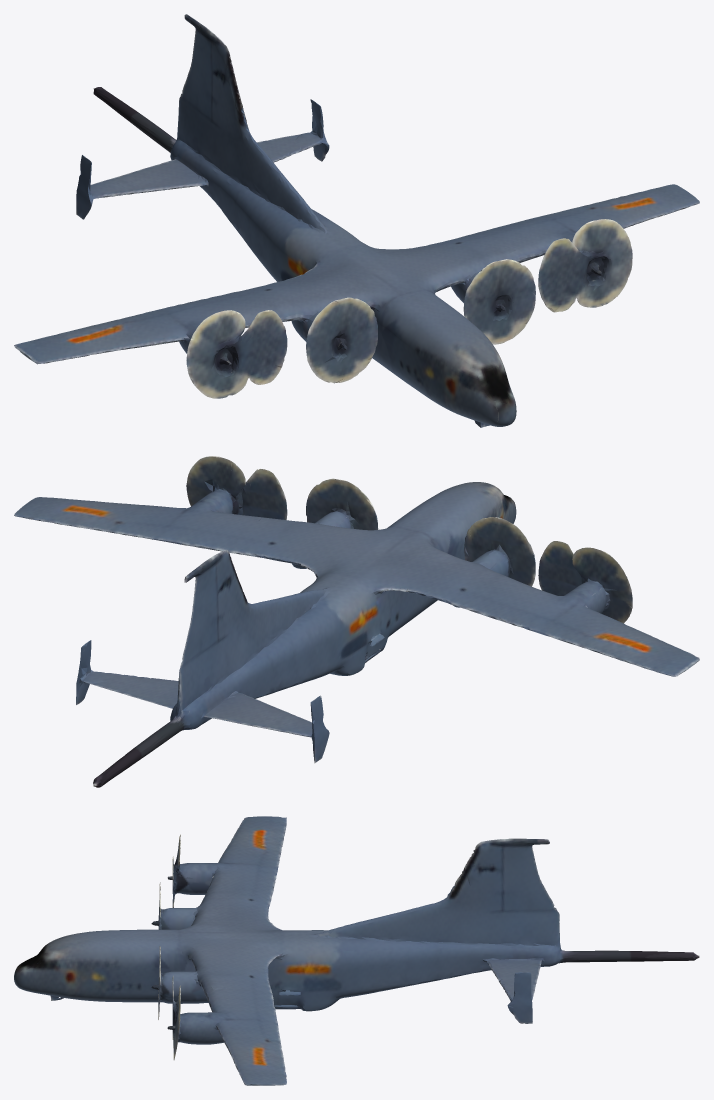
Rendered from Y-9_Medium_Transport_AI_Rodin_before_fix_x90_z90.glb.
3 renders of one model, top to bottom at view 1: azimuth 30°, elevation 25°; view 2: azimuth 150°, elevation 25°; view 3: azimuth 270°, elevation 25°, orthographic. The views are drawn at different scales.
Visible parts, largest first — view 1: Y-9_Medium_Transport; view 2: Y-9_Medium_Transport; view 3: Y-9_Medium_Transport.
Boxes of the visible parts, x1,y1,x2,y2 form: Y-9_Medium_Transport: (14,14,699,427); Y-9_Medium_Transport: (14,456,699,787); Y-9_Medium_Transport: (14,816,699,1085).
Bounding box in the file's own units: 1.76 × 0.4929 × 1.9.
Materials: 1 (1 with a texture image).
